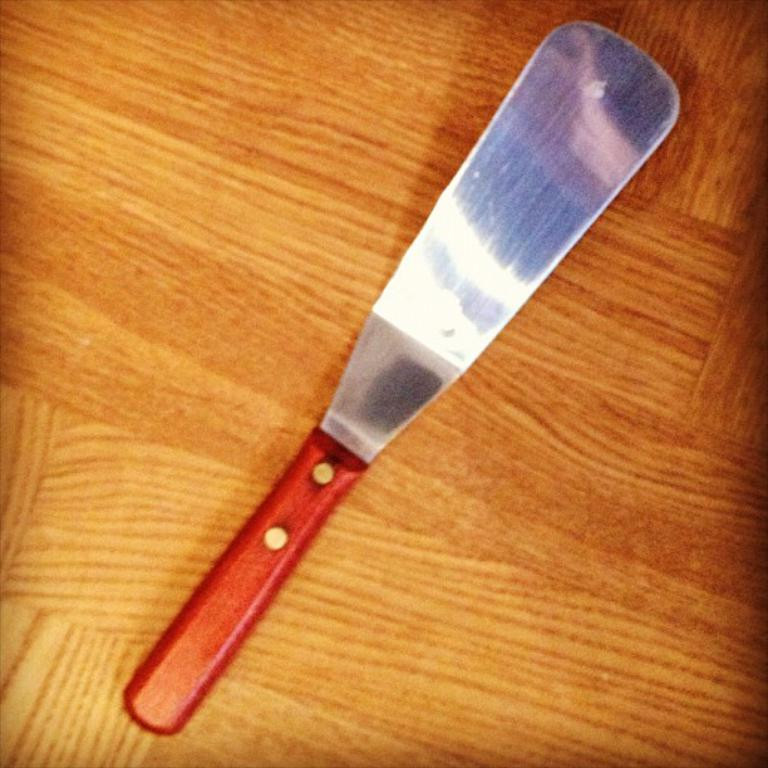knife: (121, 19, 681, 734)
